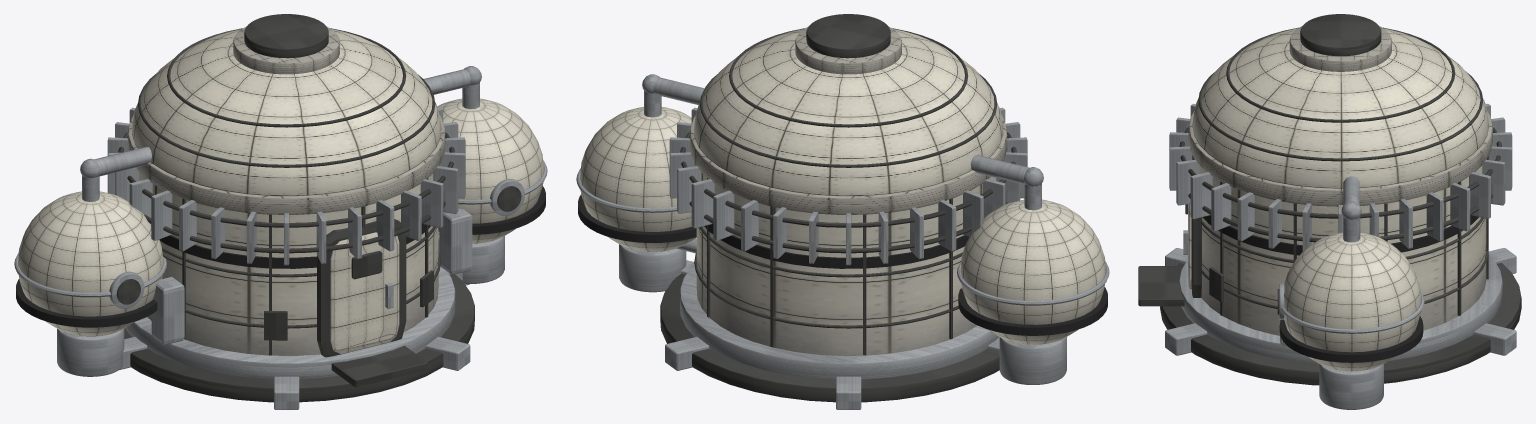
The model's file is recycler.glb.
3 views of the same model, side by side, from view 1: azimuth 30°, elevation 25°; view 2: azimuth 150°, elevation 25°; view 3: azimuth 270°, elevation 25° (orthographic). The views are drawn at different scales.
Parts seen in each view (by area): view 1: Cylinder; view 2: Cylinder; view 3: Cylinder.
Part boxes in pixels (bbox=[...]): Cylinder: bbox=[14, 14, 547, 409]; Cylinder: bbox=[576, 14, 1109, 409]; Cylinder: bbox=[1138, 14, 1521, 409].
Size of the model in its own units: 10.51 by 5.73 by 7.1.
Materials: 6 (5 with a texture image).
